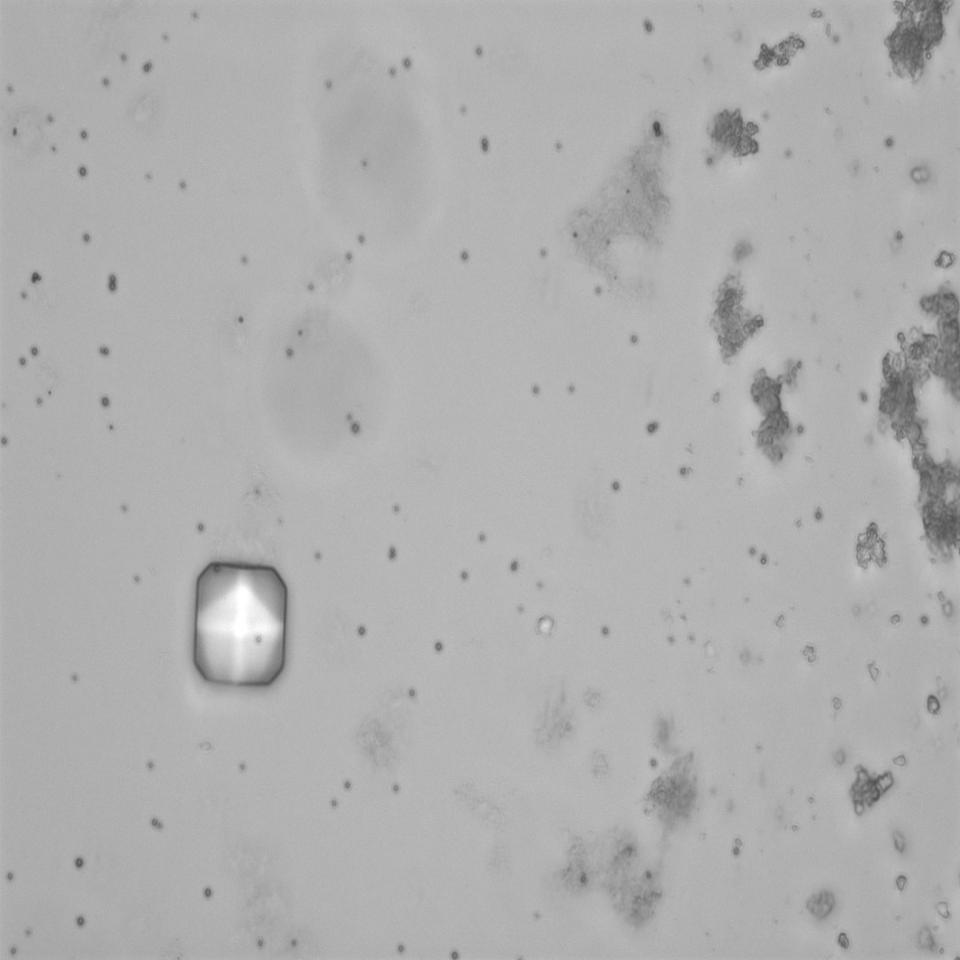crystal: (187, 554, 293, 687)
